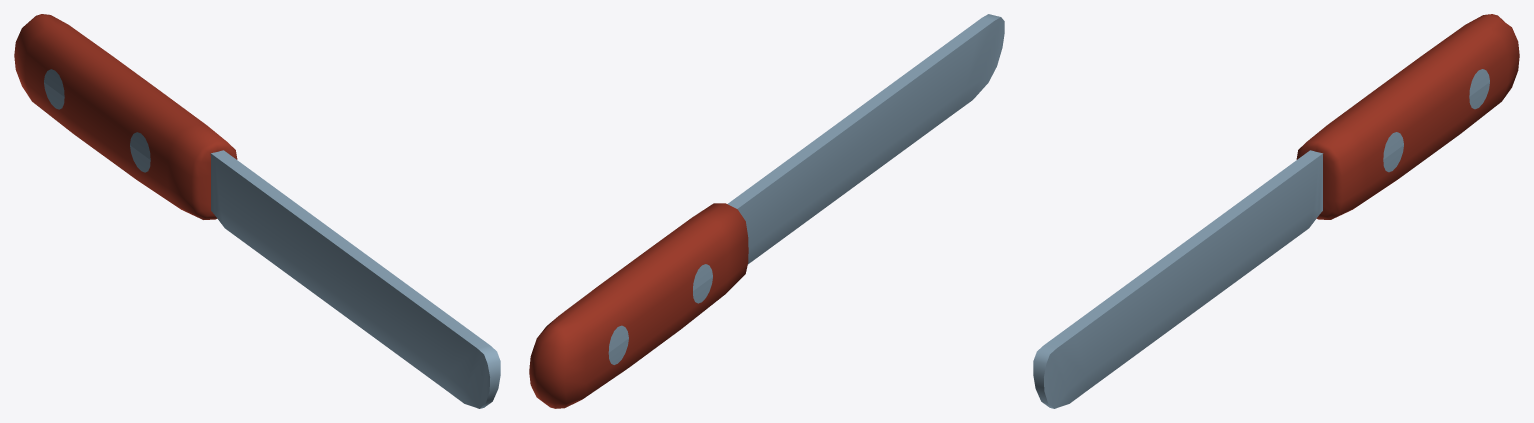
File: Knife.fbx
3 views of the same model, side by side, from view 1: azimuth 30°, elevation 25°; view 2: azimuth 150°, elevation 25°; view 3: azimuth 330°, elevation 25° (orthographic). The views are drawn at different scales.
Parts seen in each view (by area): view 1: Cube; view 2: Cube; view 3: Cube.
Part boxes in pixels (box(x1,y1,x2,y2)): Cube: box(14, 14, 500, 408); Cube: box(529, 14, 1004, 408); Cube: box(1033, 14, 1519, 408).
Size of the model in its own units: 0.1688 by 0.2706 by 2.63.
